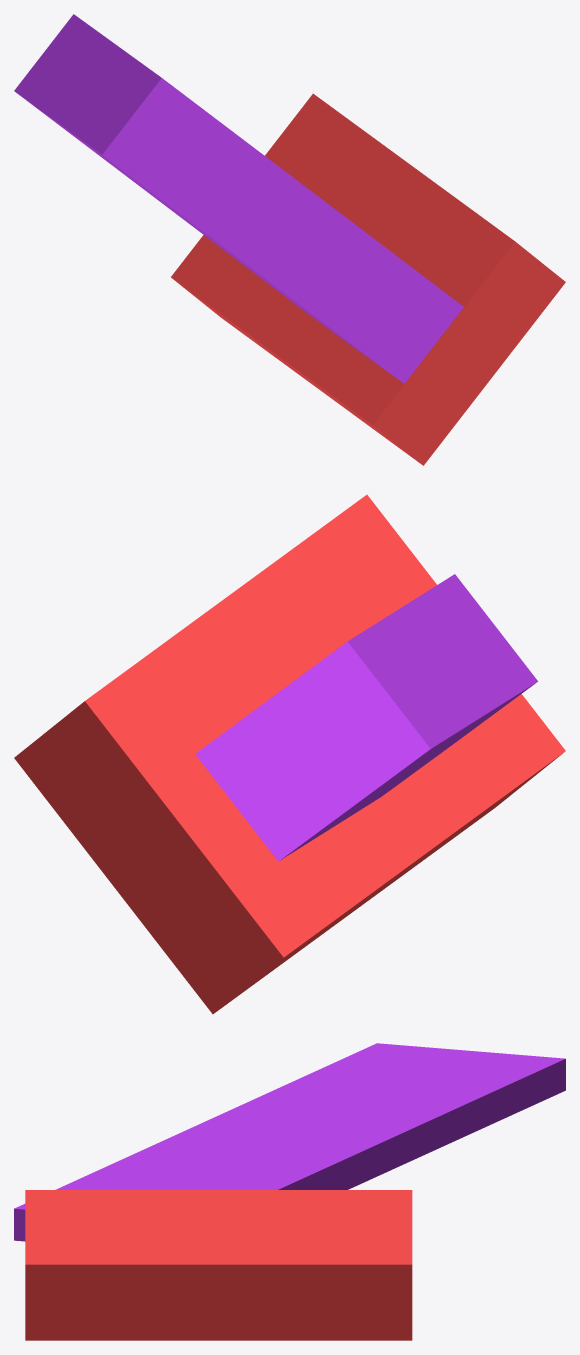
The model's file is parent4.fbx.
3 views of the same model, one above another, from view 1: azimuth 30°, elevation 25°; view 2: azimuth 150°, elevation 25°; view 3: azimuth 270°, elevation 25° (orthographic). The views are drawn at different scales.
Visible parts, largest first — view 1: Cube.003, Cube.004; view 2: Cube.003, Cube.004; view 3: Cube.003, Cube.004.
Part boxes in pixels (left/top/right/bottom): Cube.003: left=171, top=93, right=565, bottom=465; Cube.004: left=14, top=14, right=463, bottom=383; Cube.003: left=14, top=494, right=565, bottom=1014; Cube.004: left=195, top=574, right=537, bottom=861; Cube.003: left=25, top=1190, right=412, bottom=1340; Cube.004: left=14, top=1043, right=565, bottom=1241.
Size of the model in its own units: 341 by 317 by 608.
